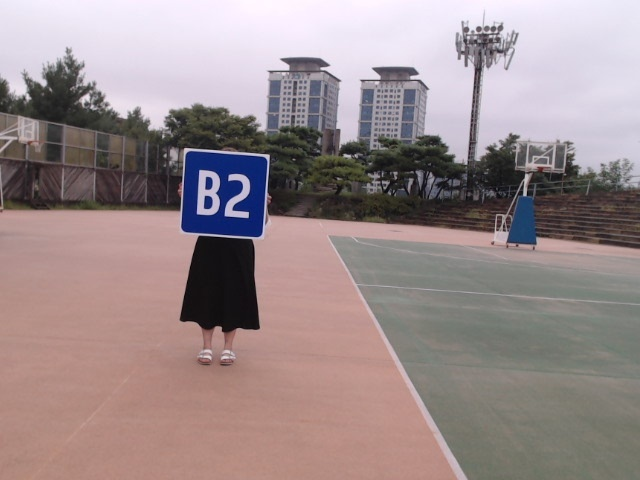delivery_b2: (180, 152, 269, 238)
